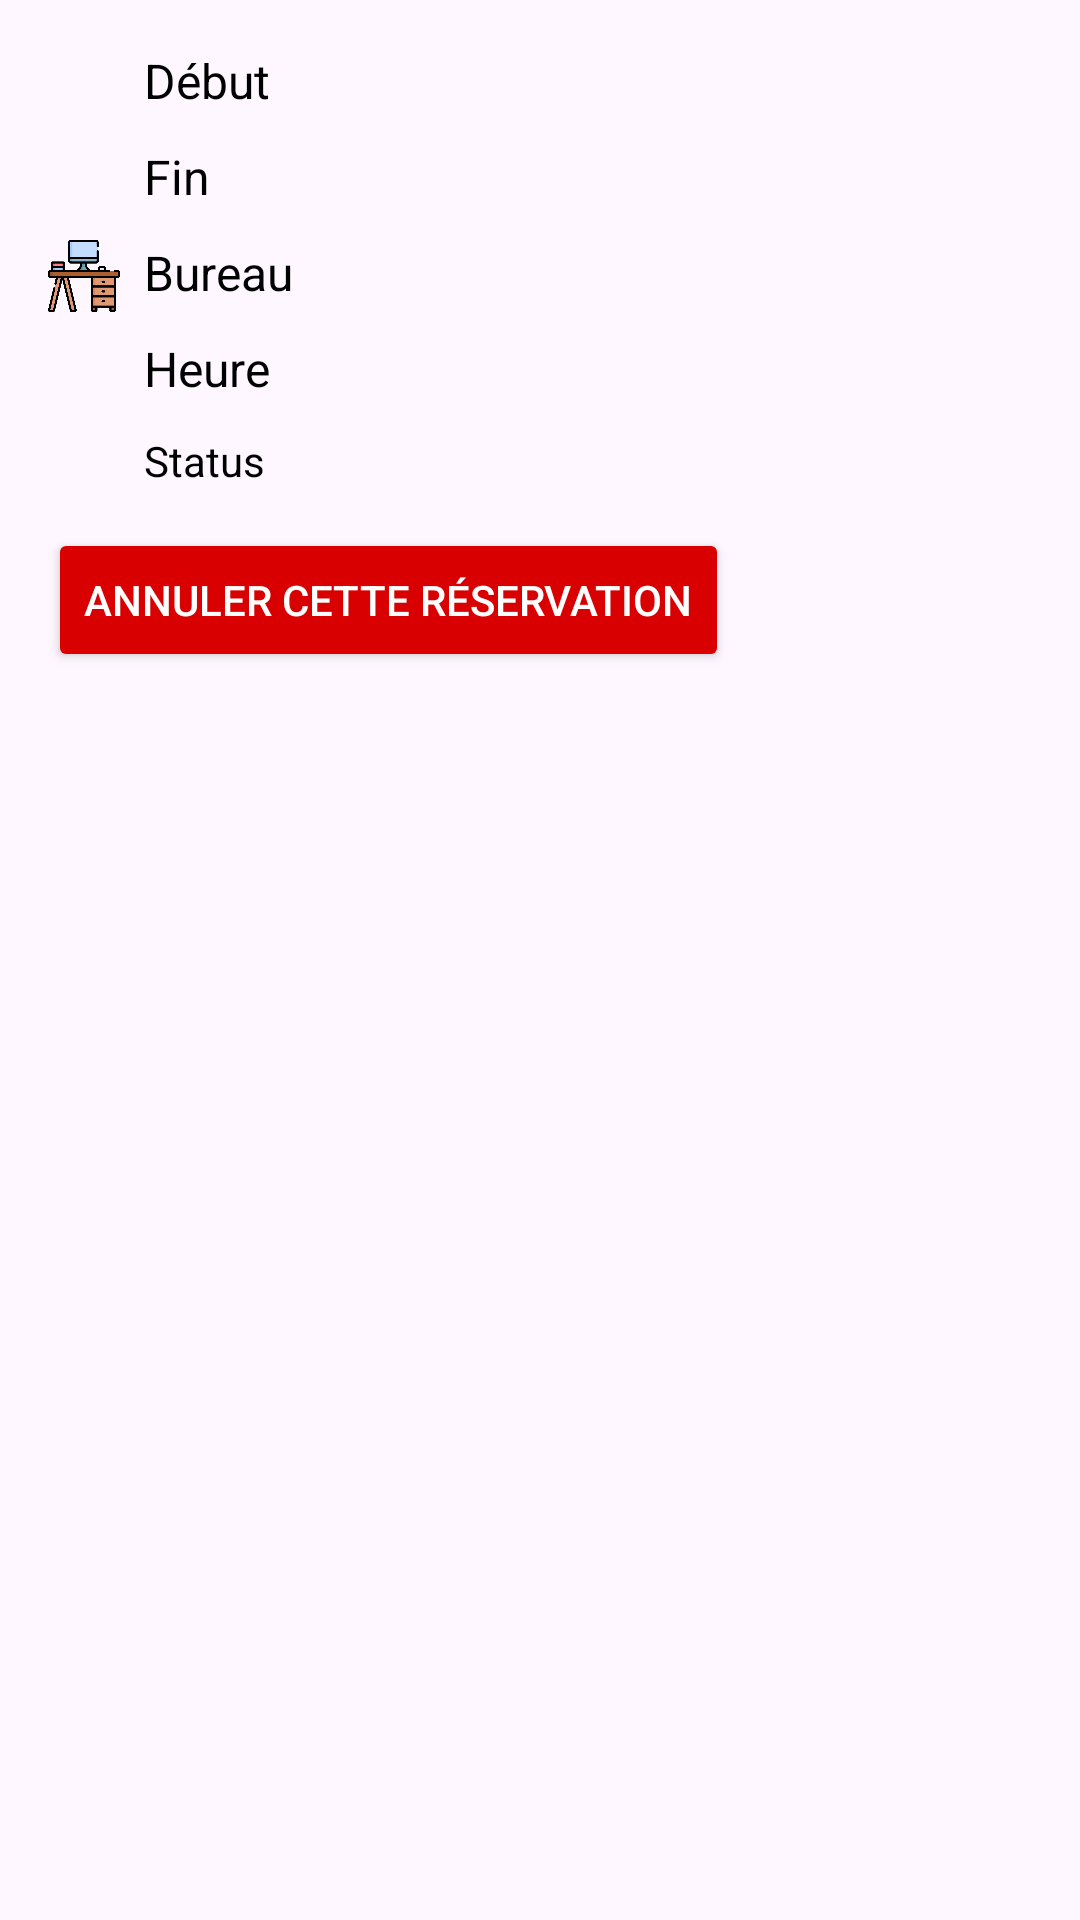

Screen size 1080 x 1920. Icon name, then its center in pixels as (x=x, y=y):
office: (x=84, y=276)
